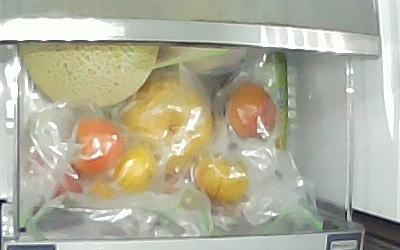melon: (17, 41, 159, 108)
pear_vinyl: (121, 72, 213, 172)
prune_vinyl: (193, 153, 249, 205), (70, 122, 121, 178), (225, 85, 276, 138)
tangerine_vinyl: (113, 148, 157, 192)
zucchini: (264, 54, 288, 150)
